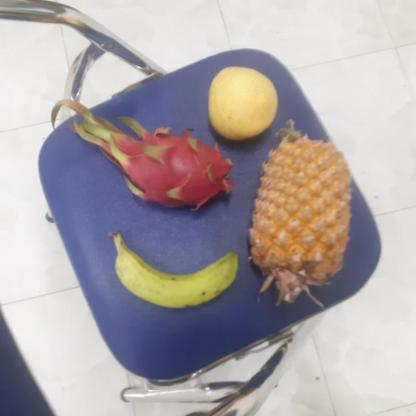banana: (106, 233, 235, 308)
pear: (204, 68, 280, 141)
pineapple: (244, 135, 354, 291)
pitaya: (111, 127, 232, 212)
